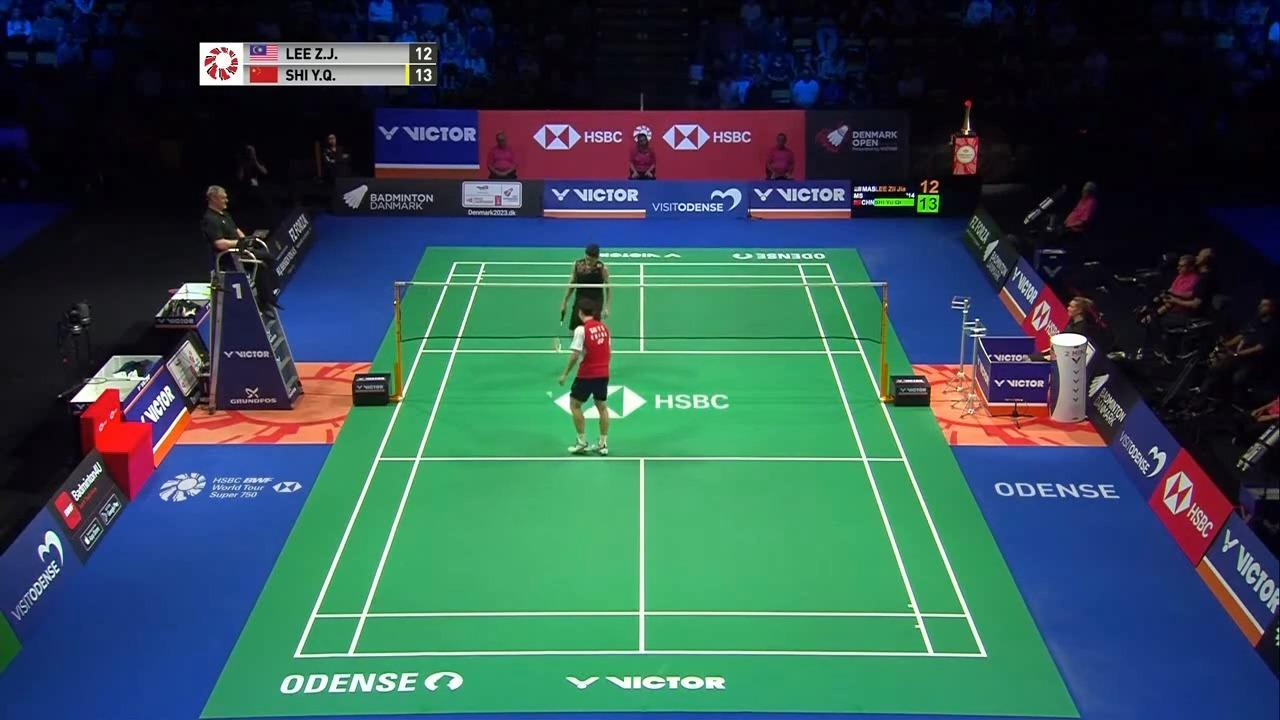shuttle: (544, 389, 558, 401)
